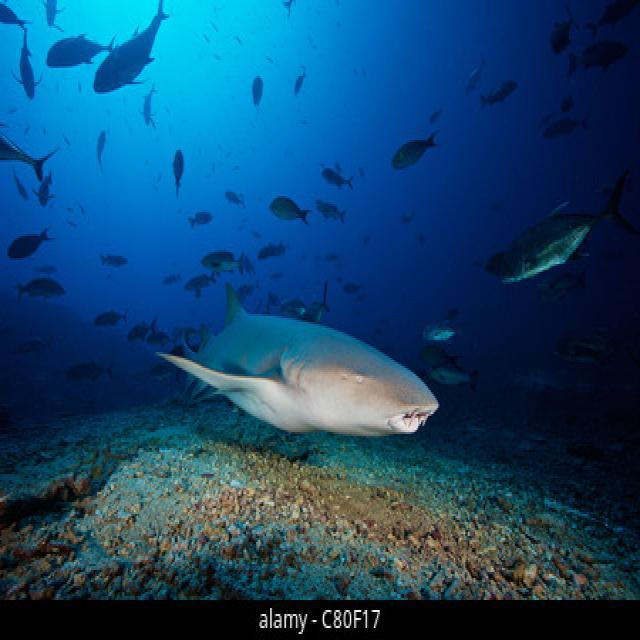Shark: (124, 194, 451, 476)
